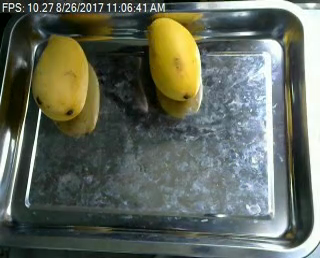Mango: (27, 27, 95, 124), (138, 14, 207, 109)
